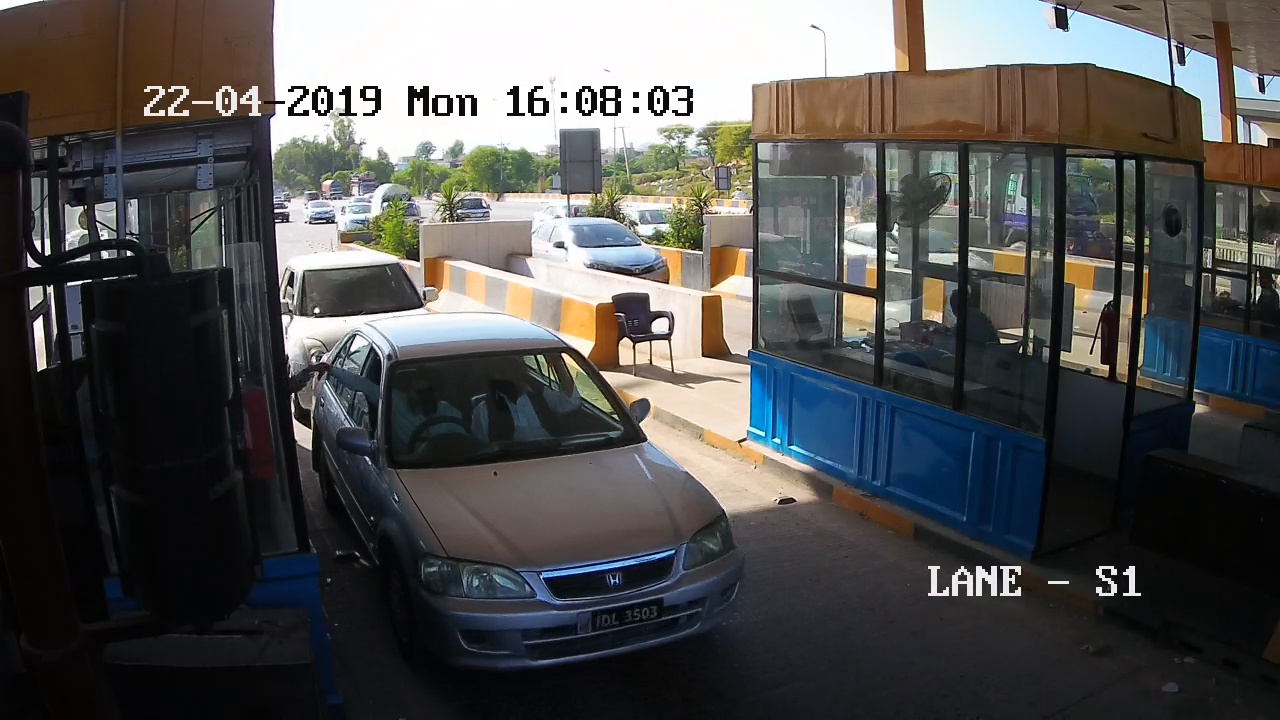Number Plate (Car): (589, 604, 661, 634)
